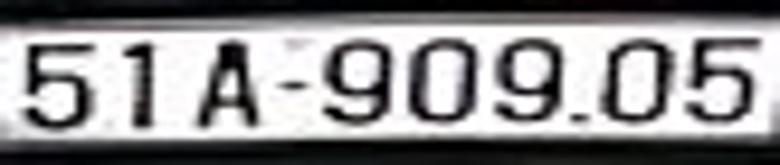-: (278, 82, 305, 90)
.: (571, 110, 592, 123)
0: (409, 36, 475, 122), (606, 39, 667, 122)
1: (124, 42, 154, 129)
5: (24, 42, 96, 130), (689, 36, 760, 124)
9: (320, 38, 390, 123), (494, 41, 560, 123)
A: (197, 40, 257, 127)
